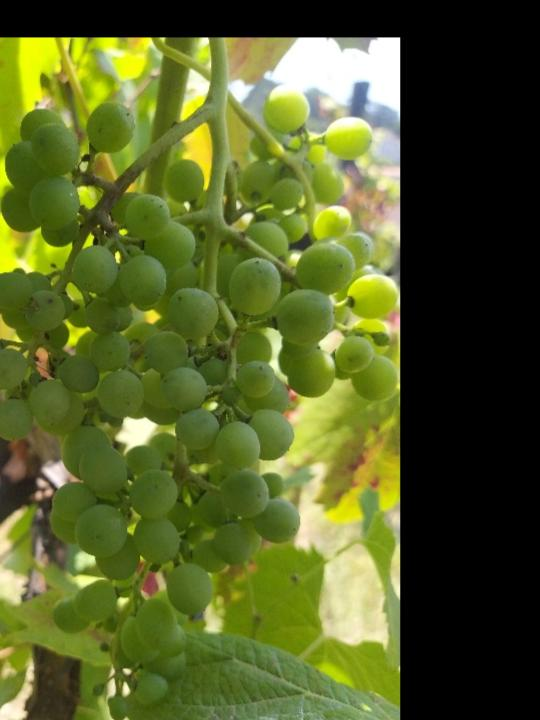grape: (0, 81, 397, 720)
